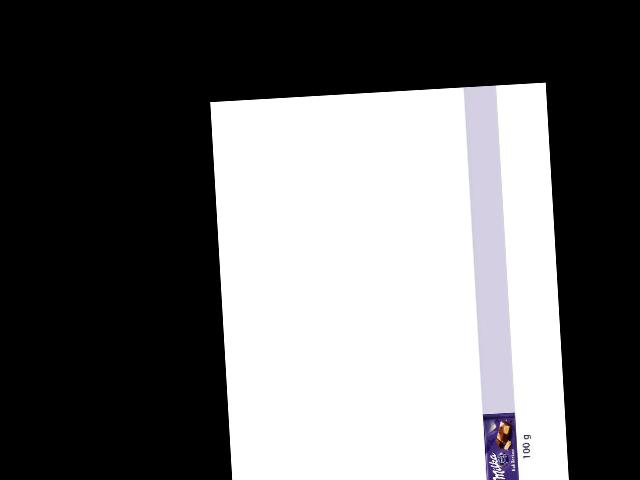chocolate: (482, 412, 520, 480)
